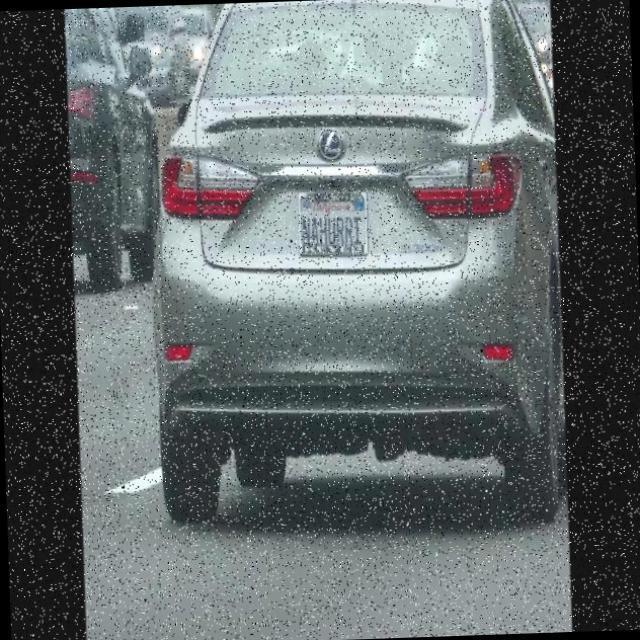License Plate: (292, 172, 373, 268)
